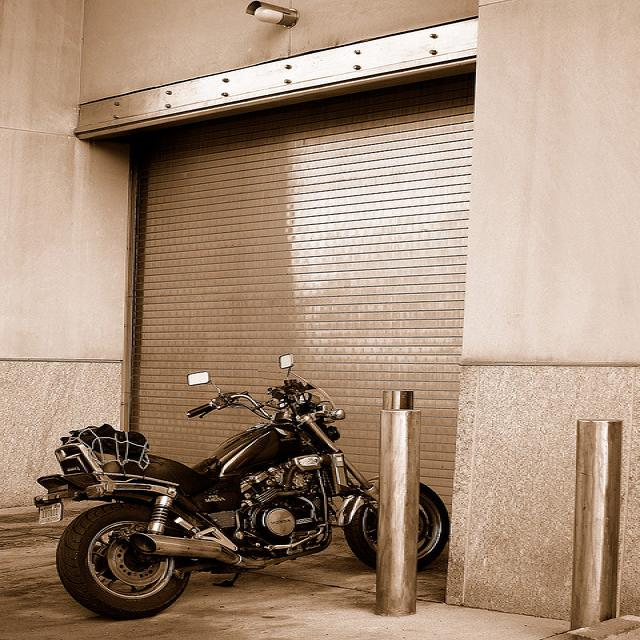motor: (35, 354, 448, 618)
